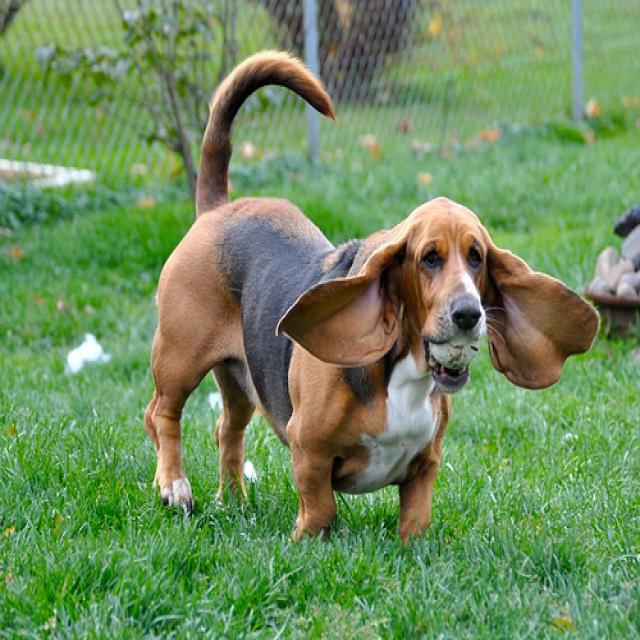dog-basset_hound: (137, 45, 609, 550)
